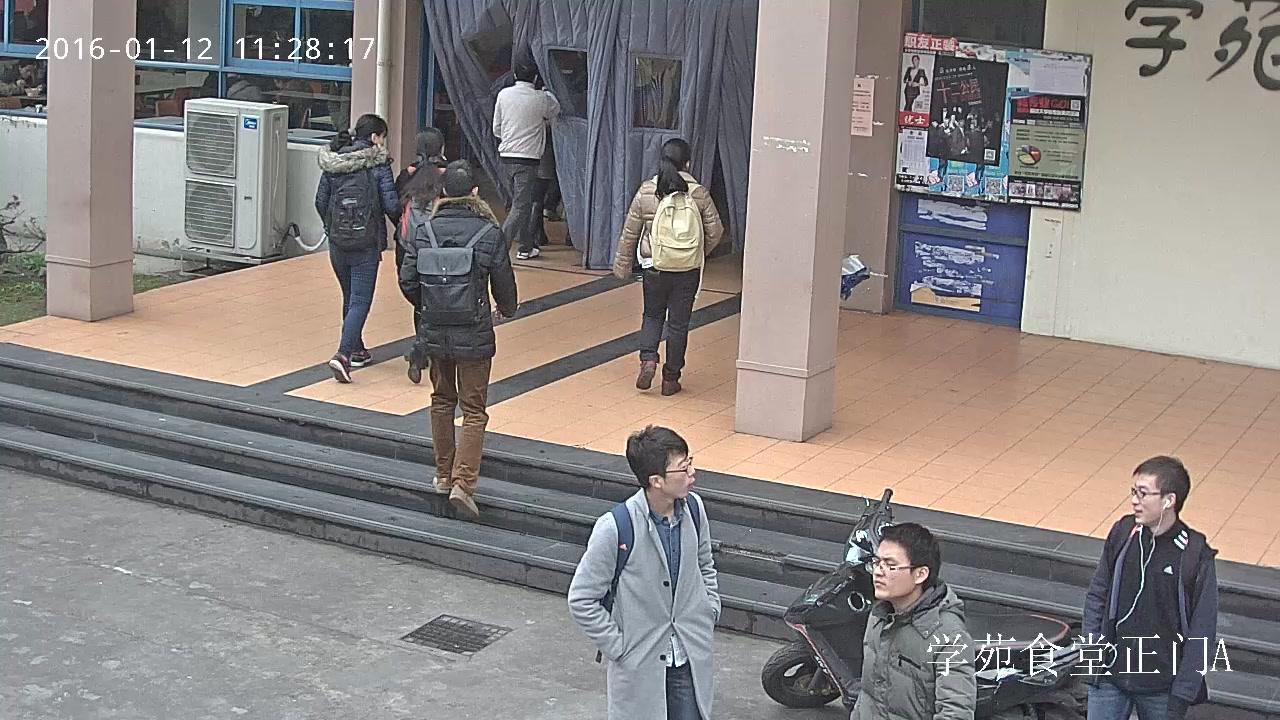person: (566, 425, 721, 720), (399, 157, 517, 519), (1079, 455, 1220, 720), (614, 137, 724, 395), (848, 520, 978, 720), (314, 113, 399, 382), (391, 126, 460, 383), (491, 54, 560, 259), (0, 58, 42, 99), (902, 54, 928, 112)
